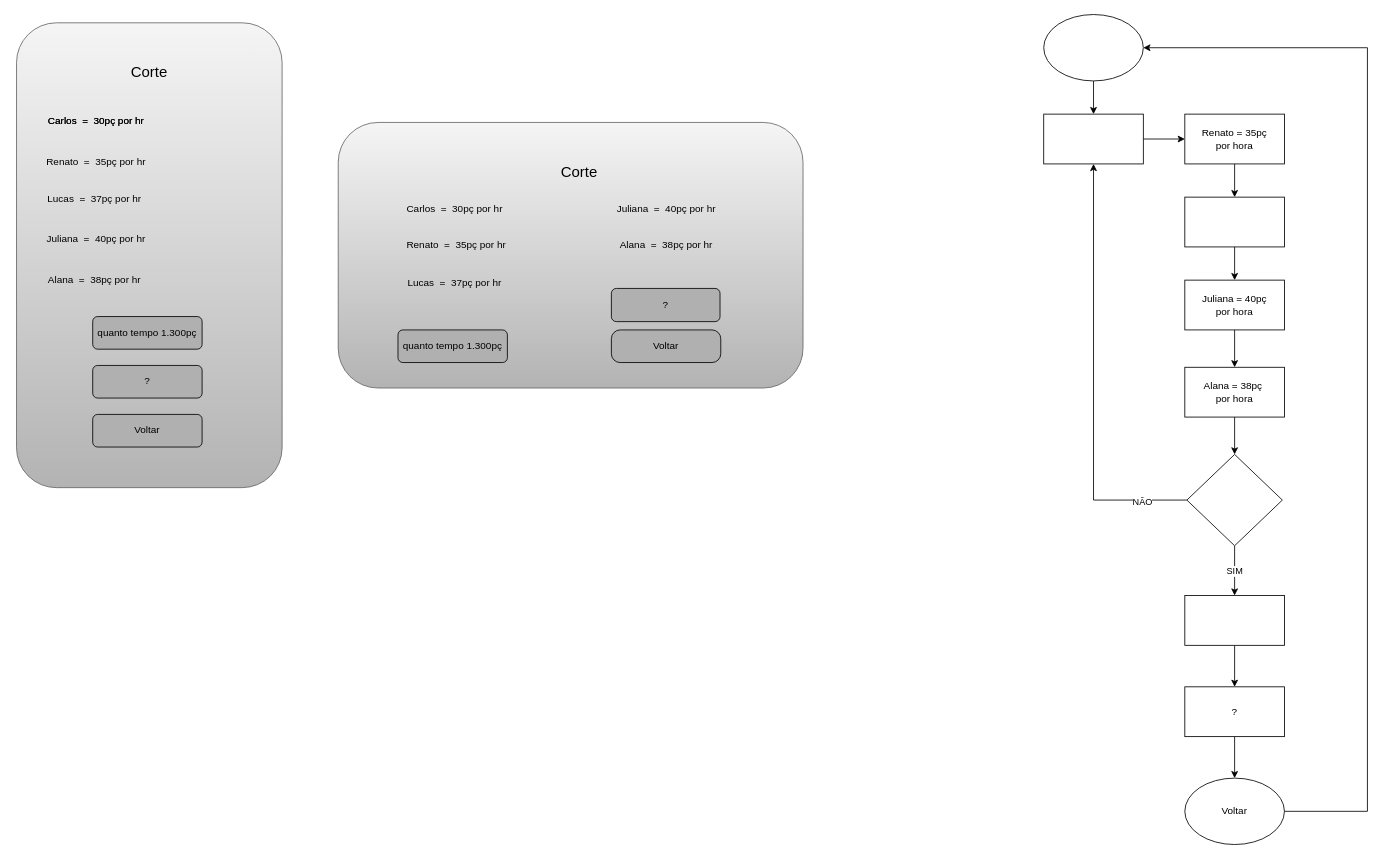
Some shapes in this 1389 by 859 pixel diagram are drawn without their labels. Here are the shapes that lost their labels. From the top down, the centre of each, then its label:
point 1093,47: Início
point 1093,138: Carlos = 30pç por hora
point 1234,221: Lucas = 37pç por hora
point 1234,500: Está Correto?
point 1234,620: Quanto tempo 1.300pç?
